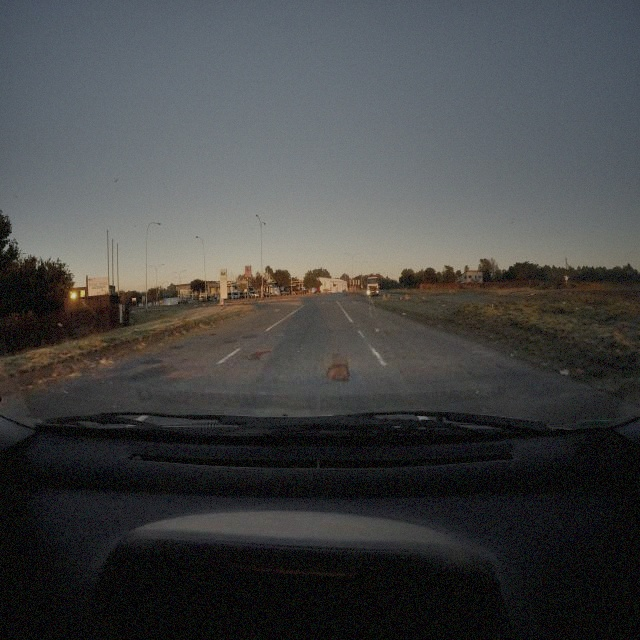pothole: (326, 362, 350, 384), (250, 346, 270, 359)
